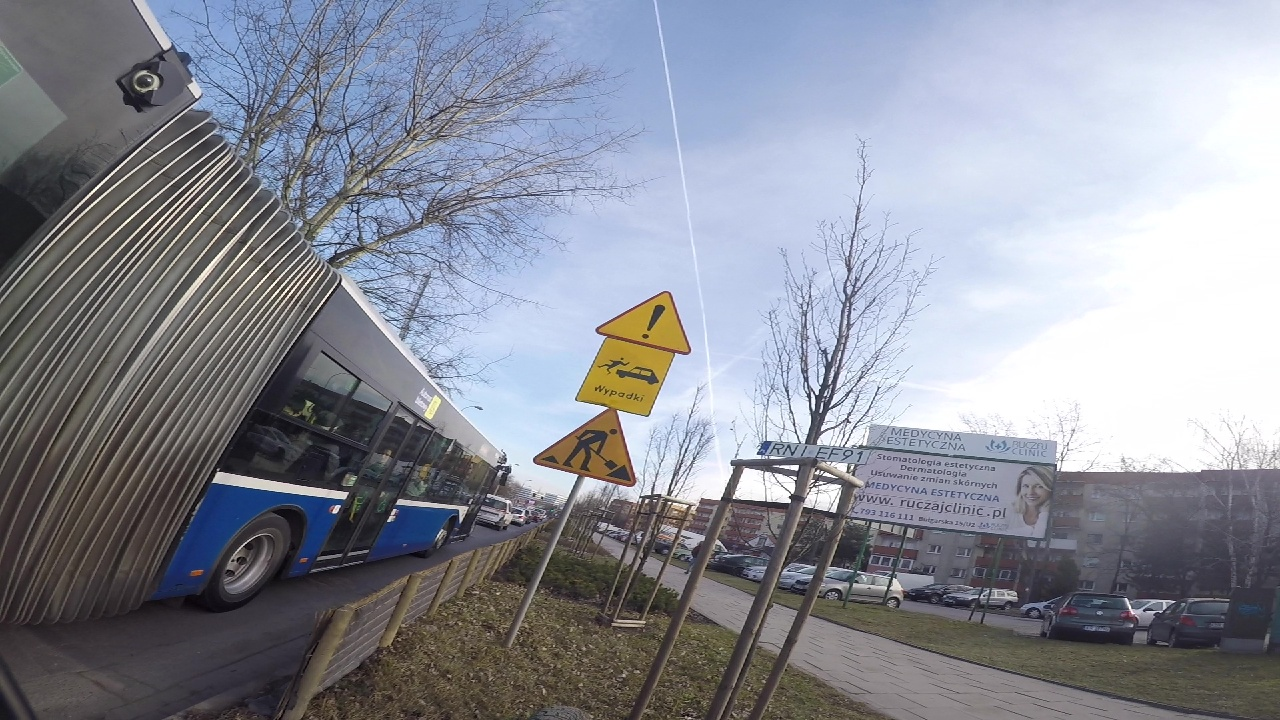A14: (532, 404, 646, 492)
A30: (591, 278, 702, 357)
